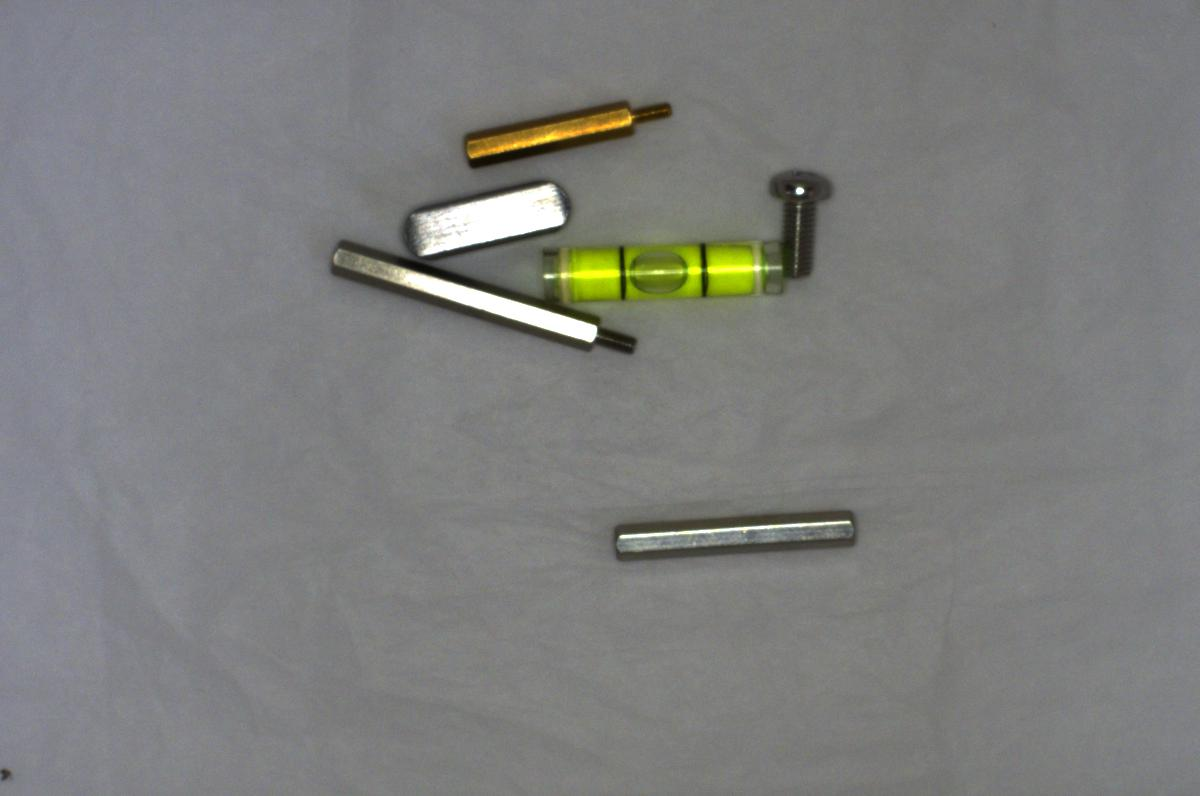Double hexagonal column: (591, 501, 866, 569)
Hexagon pillar: (457, 91, 680, 163)
Hexagonal steel column: (326, 240, 647, 363)
Horizontal bubble: (537, 227, 794, 313)
Keybar: (400, 173, 574, 262)
Round head screw: (766, 154, 834, 277)
